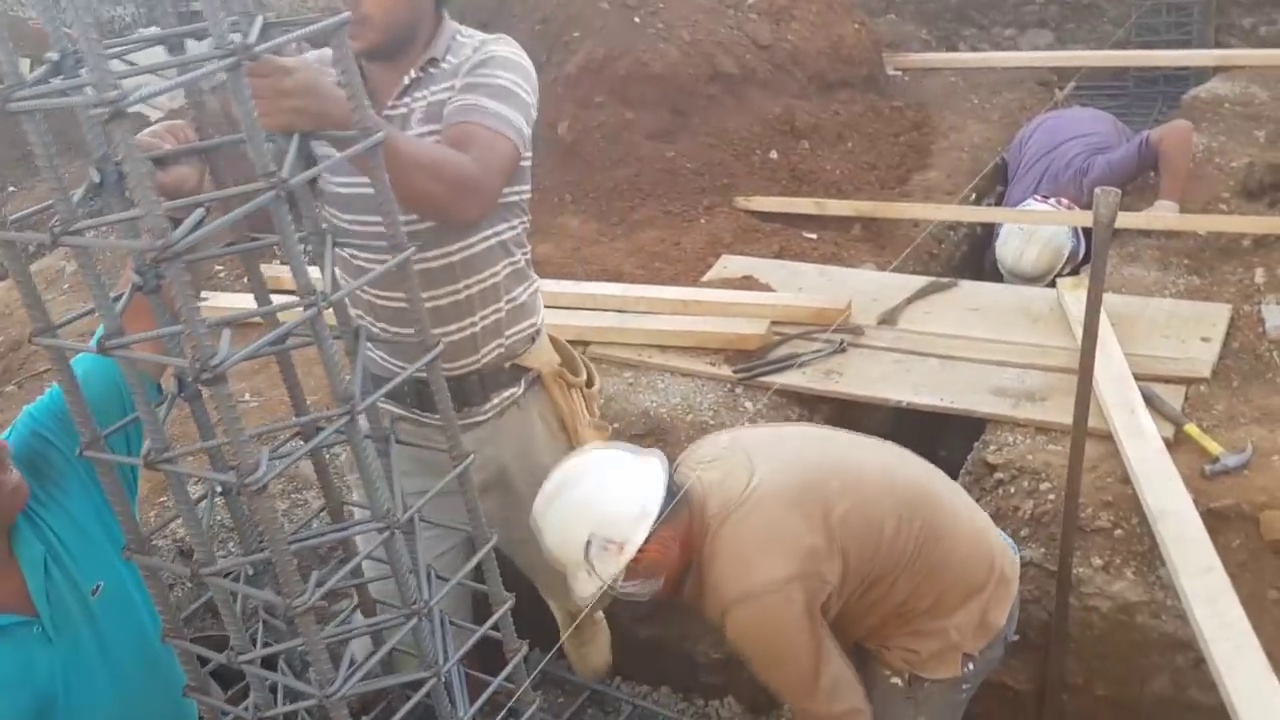helmet: (537, 453, 664, 627), (991, 200, 1071, 285)
helmet-on: (532, 431, 723, 635), (991, 198, 1099, 285)
person: (253, 0, 620, 719), (525, 420, 1024, 717), (0, 102, 208, 716), (988, 104, 1192, 303)
